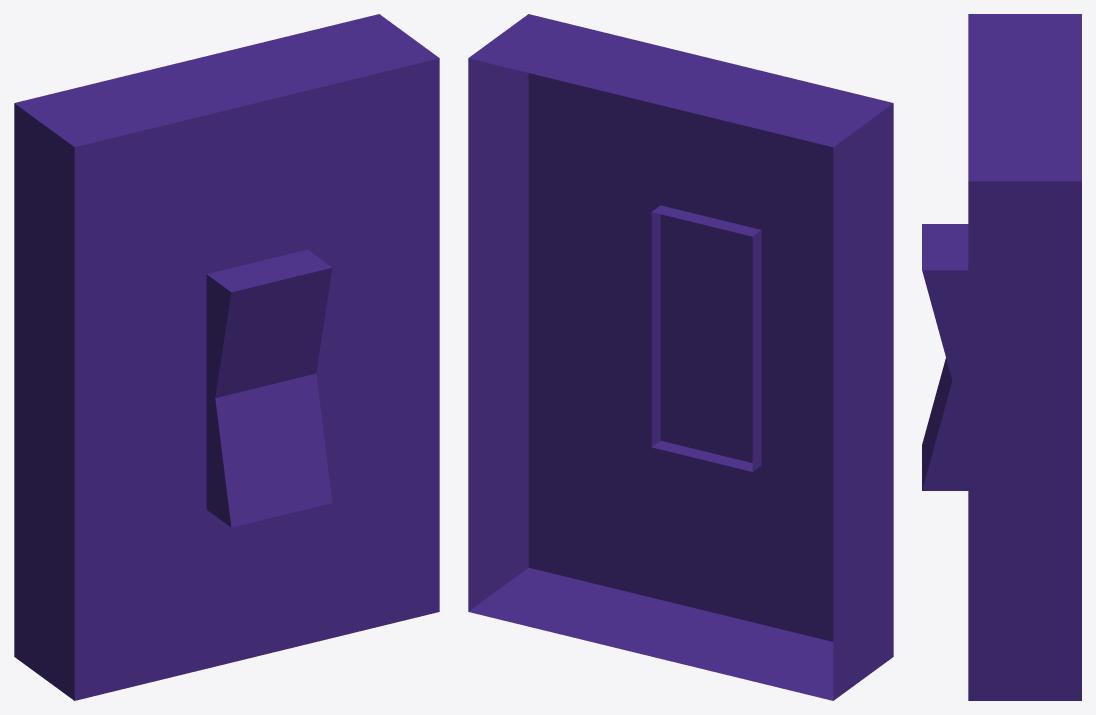
File: switch.fbx
3 views of the same model, side by side, from view 1: azimuth 30°, elevation 25°; view 2: azimuth 150°, elevation 25°; view 3: azimuth 270°, elevation 25° (orthographic). The views are drawn at different scales.
Visible parts, largest first — view 1: switch; view 2: switch; view 3: switch.
Part boxes in pixels (bbox=[...]): switch: bbox=[14, 14, 439, 700]; switch: bbox=[468, 14, 893, 700]; switch: bbox=[922, 14, 1081, 700].
Bounding box in the file's own units: 6.12 × 8.87 × 2.47.
